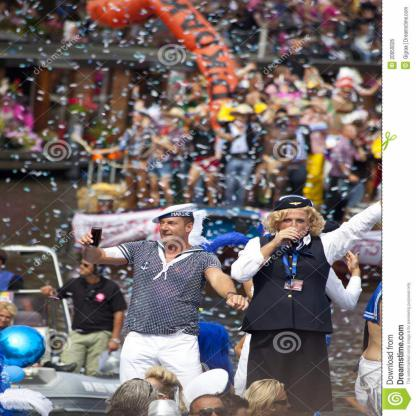face: (279, 209, 310, 240), (160, 217, 187, 243), (269, 395, 291, 416), (194, 402, 225, 416), (80, 259, 95, 275), (1, 311, 12, 328), (237, 109, 248, 121), (347, 129, 357, 139), (306, 110, 315, 119)
